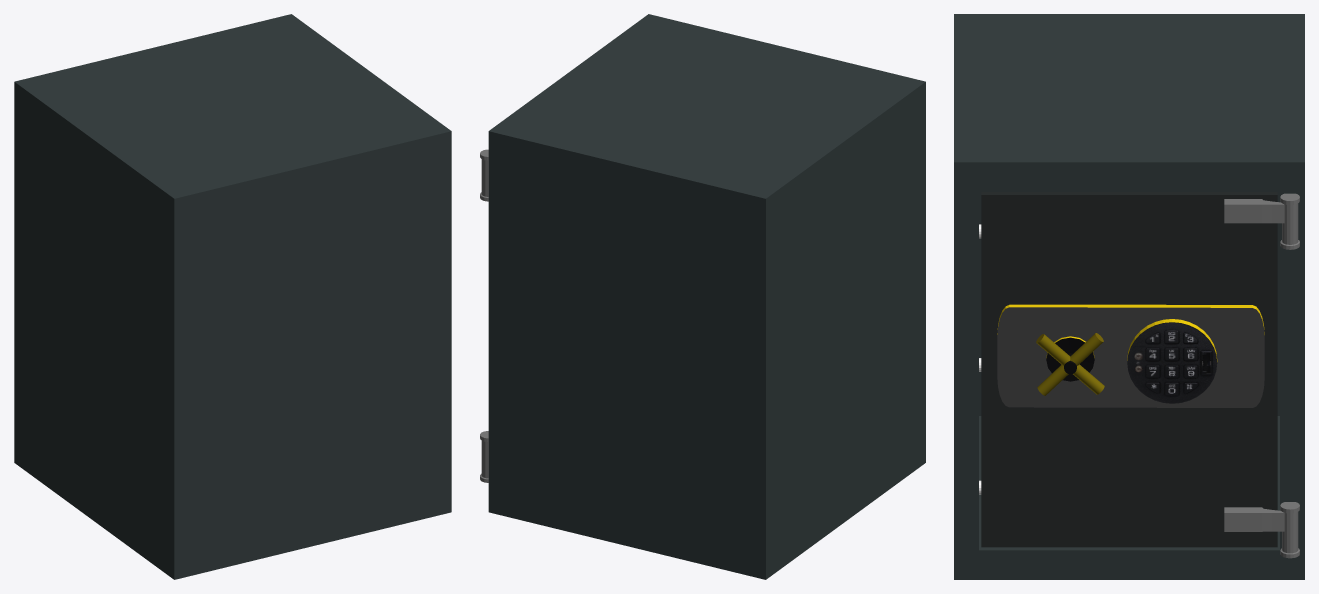
Rendered from PARA KASASI.fbx.
The picture shows the model from 3 angles, left to right: view 1: azimuth 30°, elevation 25°; view 2: azimuth 150°, elevation 25°; view 3: azimuth 270°, elevation 25°; orthographic projection. The views are drawn at different scales.
Visible parts, largest first — view 1: kasa; view 2: kasa, Cylinder.001; view 3: Cylinder.001, kasa.
Boxes of the visible parts, <box> form: kasa: <box>14,14,451,579</box>; kasa: <box>488,14,925,579</box>; Cylinder.001: <box>480,149,488,482</box>; Cylinder.001: <box>979,192,1299,558</box>; kasa: <box>954,14,1304,579</box>.
Size of the model in its own units: 232 by 280 by 213.
